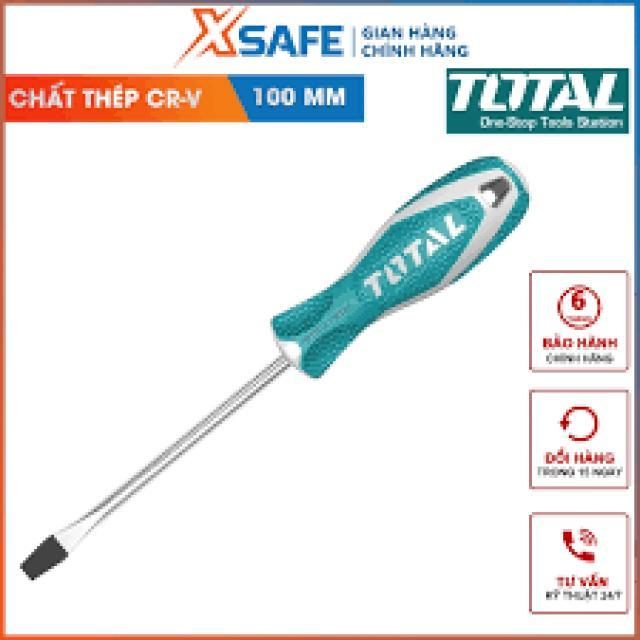screwdriver: (19, 150, 532, 586)
